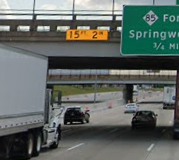1: (68, 29, 73, 39)
2: (90, 30, 98, 39)
5: (73, 29, 80, 40)
overheadsign: (65, 28, 108, 41)
